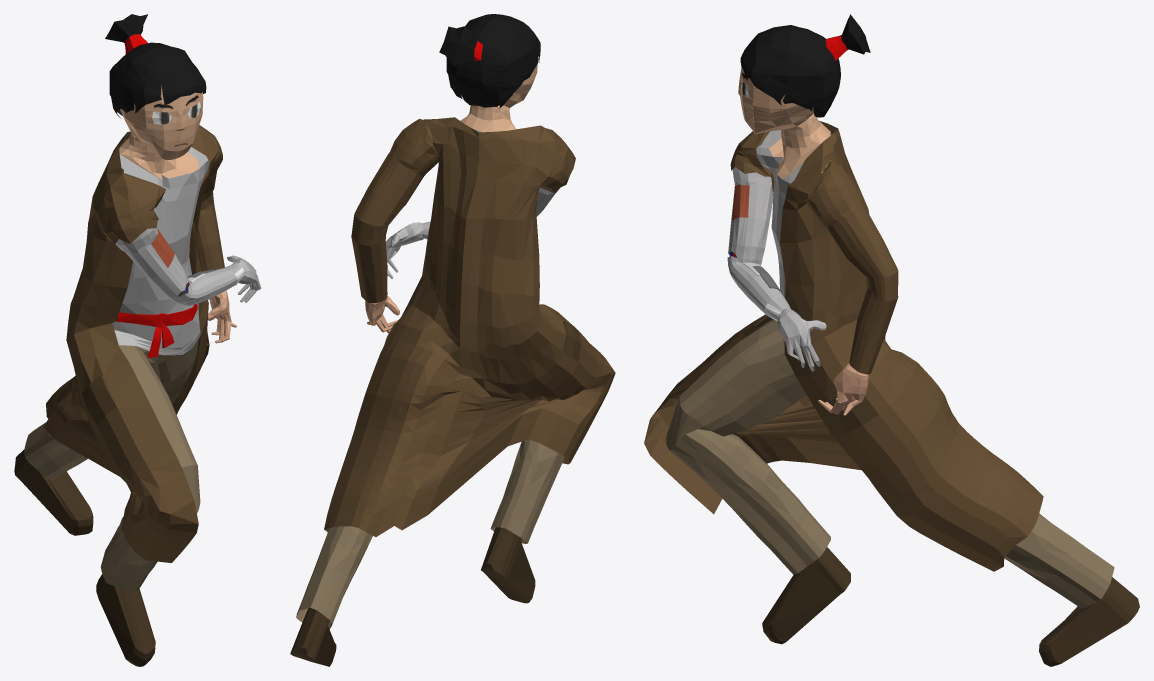
The model's file is One_DF_000009.obj.
3 renders of one model, left to right at view 1: azimuth 30°, elevation 25°; view 2: azimuth 150°, elevation 25°; view 3: azimuth 270°, elevation 25°, orthographic. The views are drawn at different scales.
Parts seen in each view (by area): view 1: Hair_Cube.004; view 2: Hair_Cube.004; view 3: Hair_Cube.004.
Part boxes in pixels (x1,y1,x2,y2): Hair_Cube.004: (14,14,261,666); Hair_Cube.004: (290,14,615,666); Hair_Cube.004: (644,14,1139,666).
Size of the model in its own units: 1.11 by 3.55 by 2.5.
